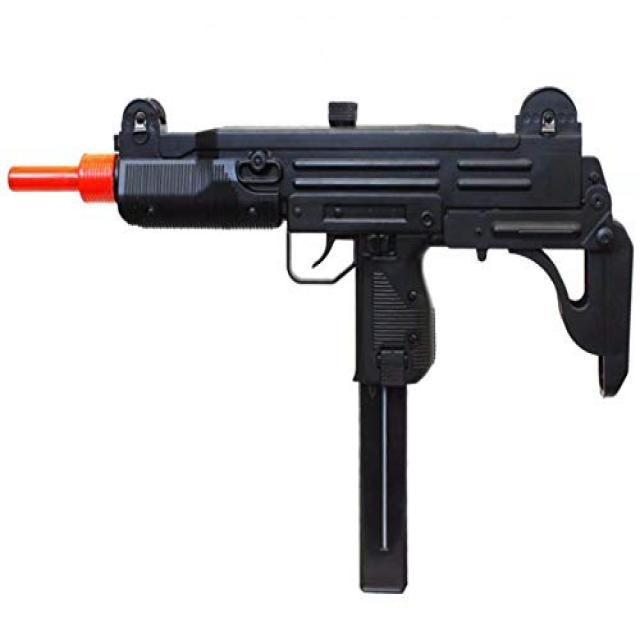SMG: (6, 87, 636, 595)
